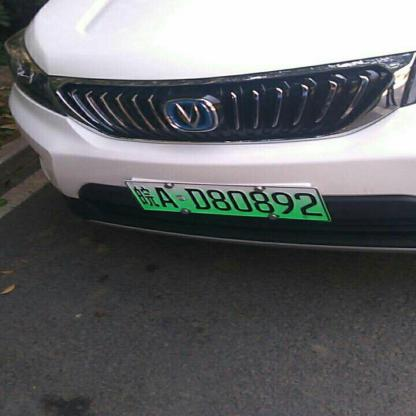lp: (126, 181, 330, 220)
